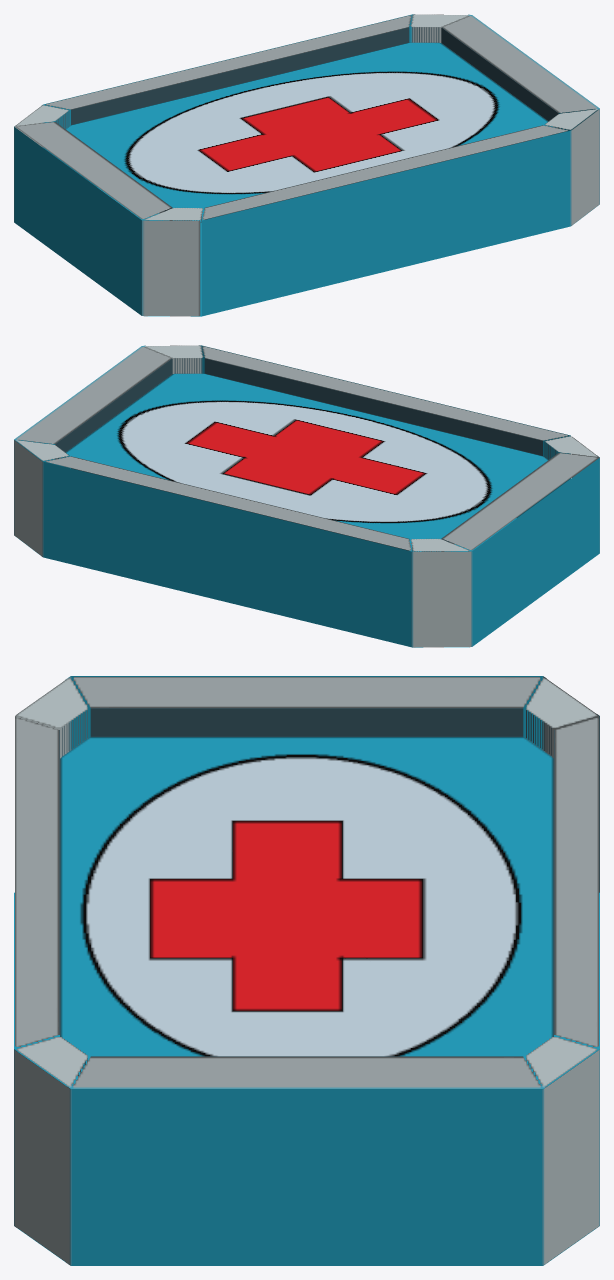
Rendered from HealthBox.fbx.
The picture shows the model from 3 angles, top to bottom: view 1: azimuth 30°, elevation 25°; view 2: azimuth 150°, elevation 25°; view 3: azimuth 270°, elevation 25°; orthographic projection. The views are drawn at different scales.
Parts seen in each view (by area): view 1: HealthBox; view 2: HealthBox; view 3: HealthBox.
Part boxes in pixels (x1,y1,x2,y2): HealthBox: (14,14,599,316); HealthBox: (14,345,599,647); HealthBox: (14,676,599,1265).
Size of the model in its own units: 500 by 100 by 300.
